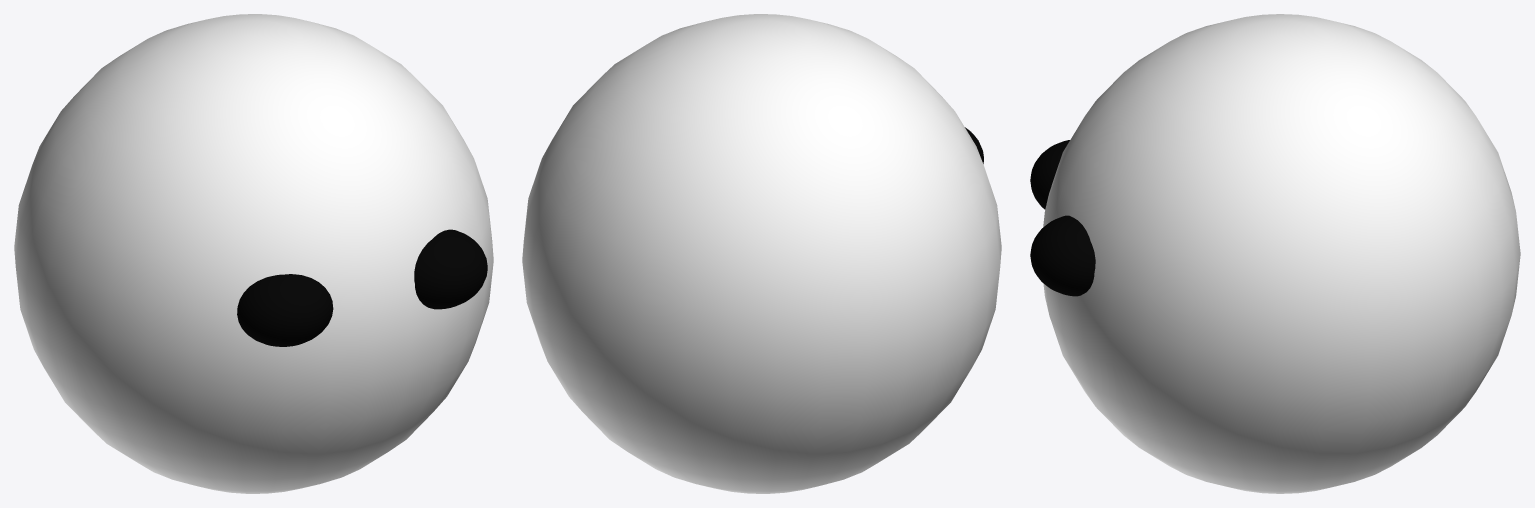
File: enemy.obj
3 views of the same model, side by side, from view 1: azimuth 30°, elevation 25°; view 2: azimuth 150°, elevation 25°; view 3: azimuth 270°, elevation 25° (orthographic).
Parts seen in each view (by area): view 1: 球.003; view 2: 球.003; view 3: 球.003.
Boxes of the visible parts, x1,y1,x2,y2 form: 球.003: (14, 14, 493, 493); 球.003: (522, 14, 1001, 493); 球.003: (1030, 14, 1520, 493).
Bounding box in the file's own units: 0.8837 × 0.8837 × 0.9021.
Materials: 1 (1 with a texture image).
